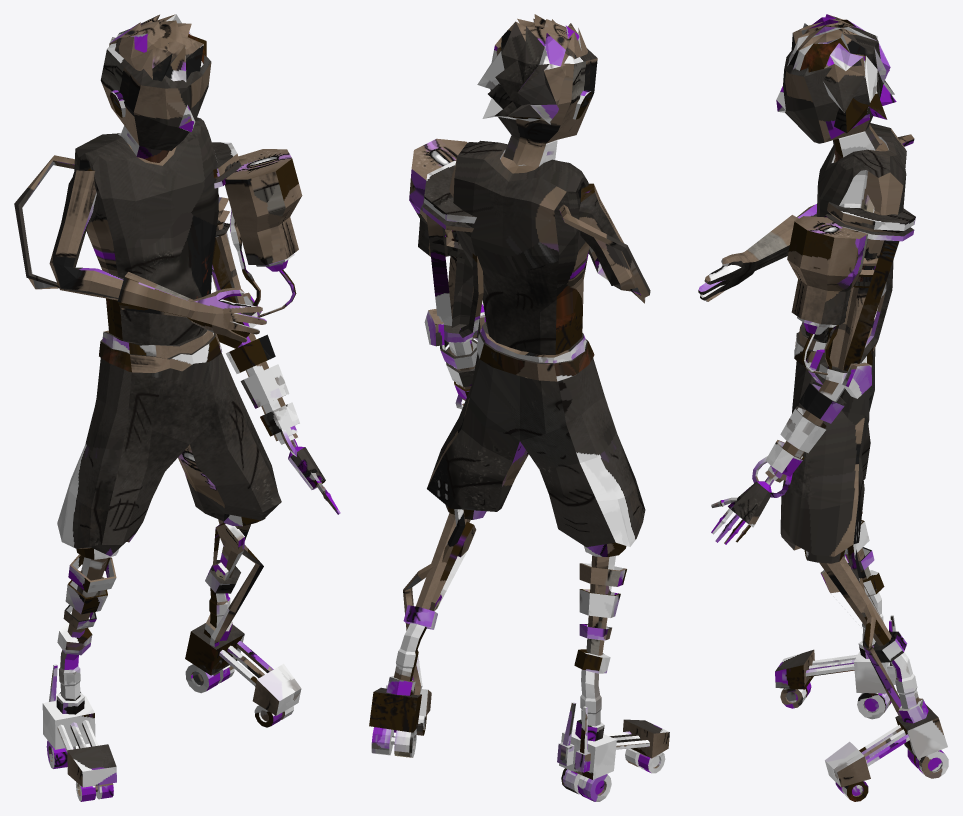
Rendered from CyborgFINALAnimation_000176.obj.
3 views of the same model, side by side, from view 1: azimuth 30°, elevation 25°; view 2: azimuth 150°, elevation 25°; view 3: azimuth 270°, elevation 25° (orthographic). The views are drawn at different scales.
Parts seen in each view (by area): view 1: CyborgMesh_Cube.002; view 2: CyborgMesh_Cube.002; view 3: CyborgMesh_Cube.002.
Boxes of the visible parts, x1,y1,x2,y2 form: CyborgMesh_Cube.002: (14, 14, 340, 801); CyborgMesh_Cube.002: (369, 14, 669, 801); CyborgMesh_Cube.002: (698, 14, 948, 801).
Size of the model in its own units: 3.58 by 9.65 by 3.03.
